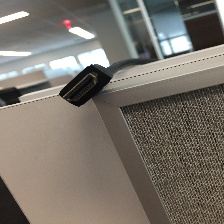hdmi_male: (42, 45, 135, 128)
